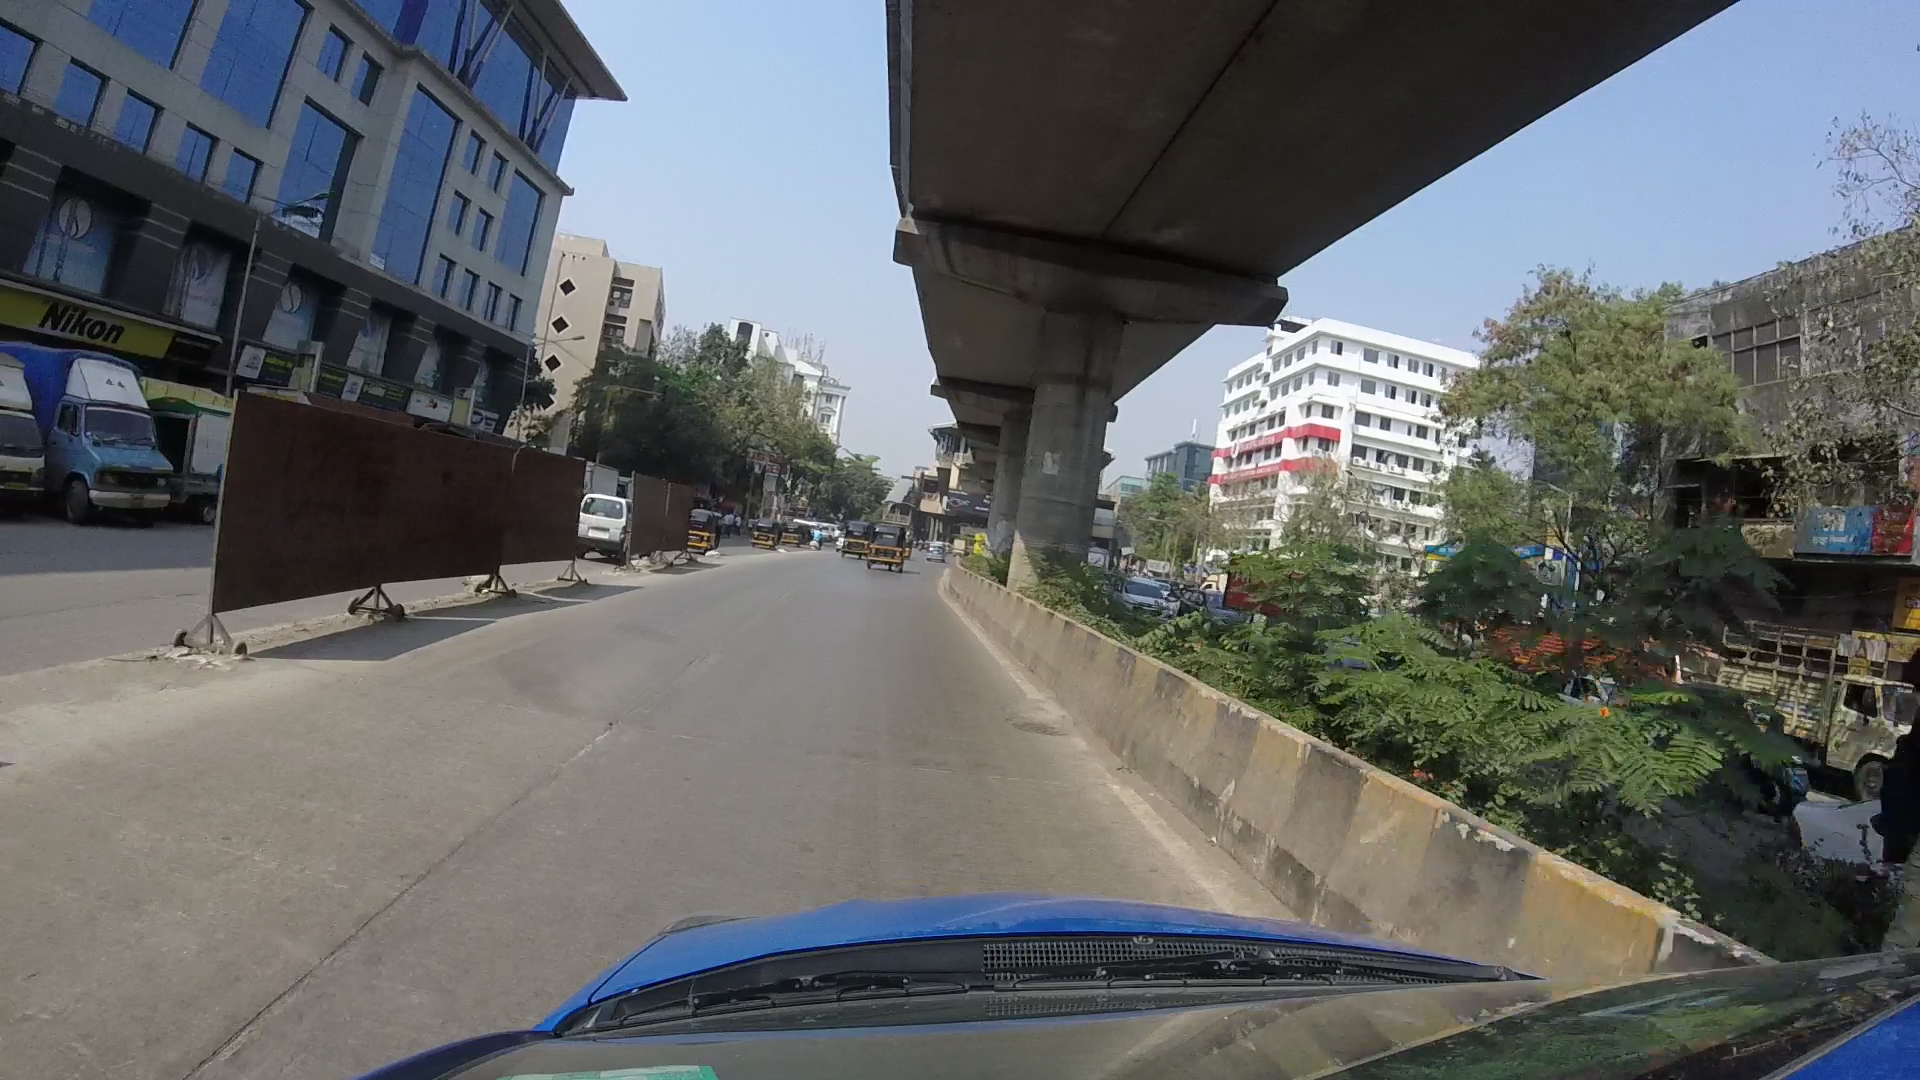car: (571, 475, 640, 570)
rickshaw: (860, 518, 913, 588)
truck: (1706, 615, 1920, 807), (47, 340, 171, 518), (1, 342, 53, 520)
